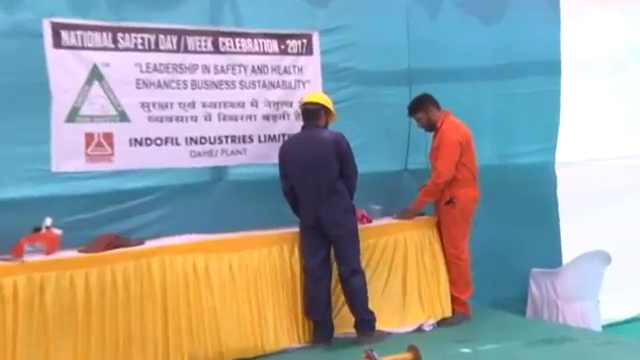helmet: (298, 90, 338, 121)
helmet_off: (404, 91, 445, 134)
helmet_on: (299, 90, 337, 133)
person: (277, 91, 387, 349), (400, 90, 479, 326)
